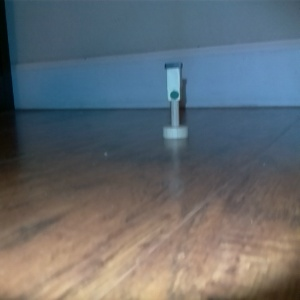traffic light green: (160, 60, 188, 141)
